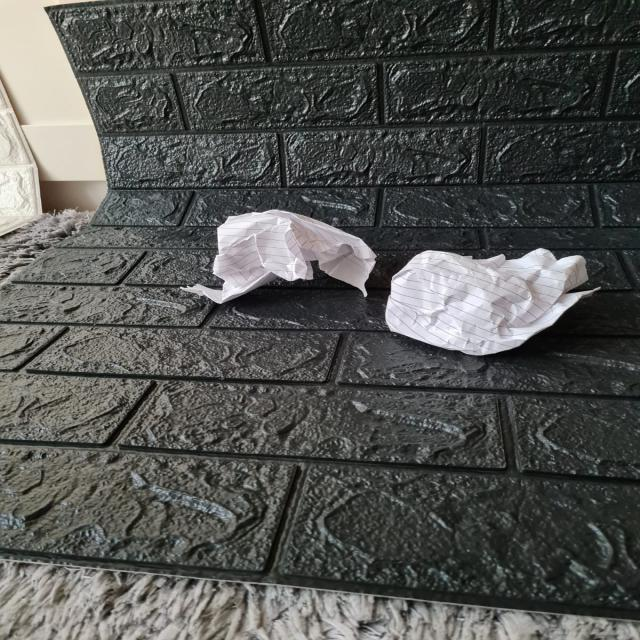Paper: (387, 246, 587, 349), (181, 207, 374, 304)
